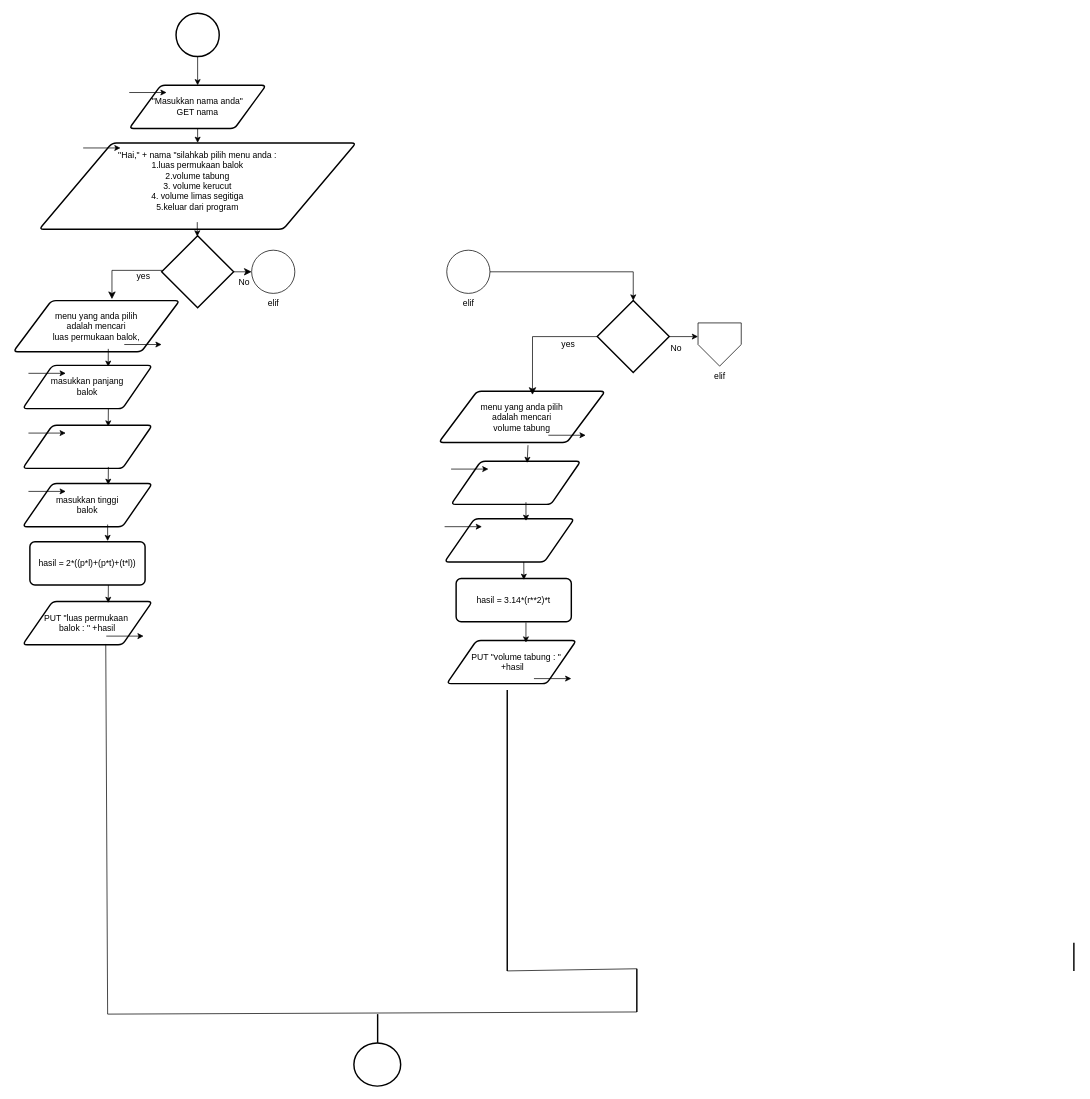
This 1090x1099 diagram has some shape labels left out. Each missing label, with the centre of its shape:
end: point (377, 1064)
masukkan jari-jari tabung: point (515, 482)
masukkan lebar balok balok: point (87, 446)
masukkan tinggi tabung: point (509, 540)
menu == 1: point (197, 271)
menu==2: point (633, 336)
start: point (197, 34)
